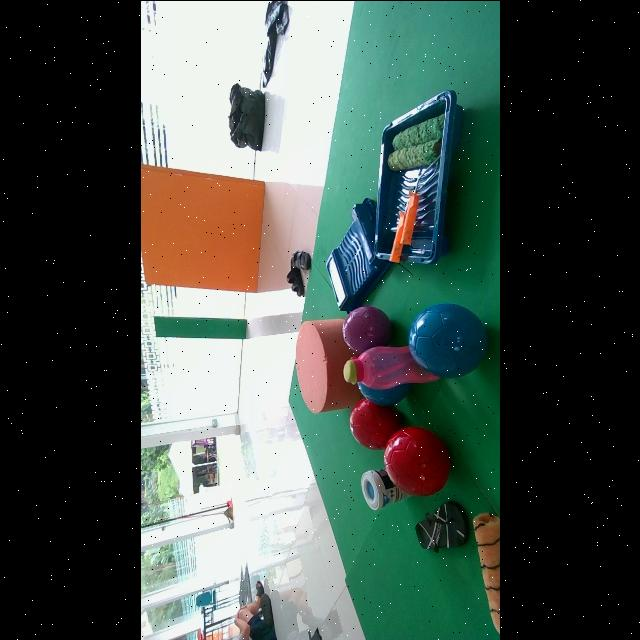B: (408, 303, 488, 378), (357, 381, 410, 404)
P: (342, 305, 391, 352)
R: (384, 426, 450, 496), (350, 398, 401, 449)
